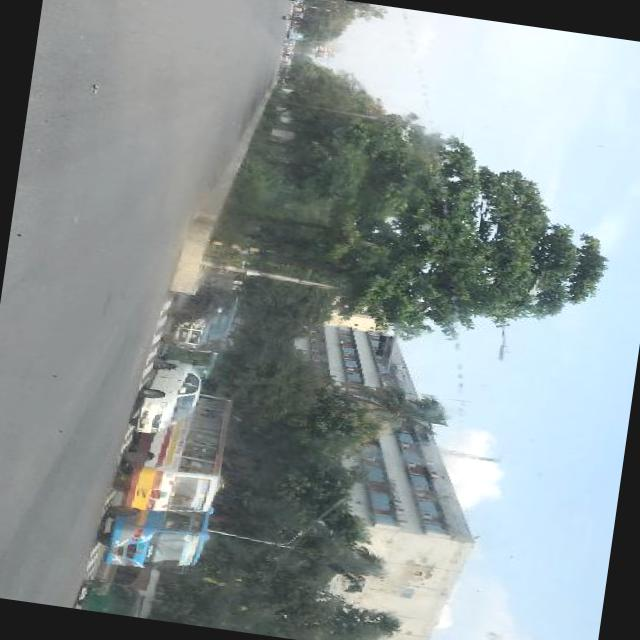bus: (113, 430, 235, 522), (98, 508, 212, 578)
car: (159, 282, 241, 354), (141, 360, 206, 440)
motorcycle: (73, 574, 150, 618)
